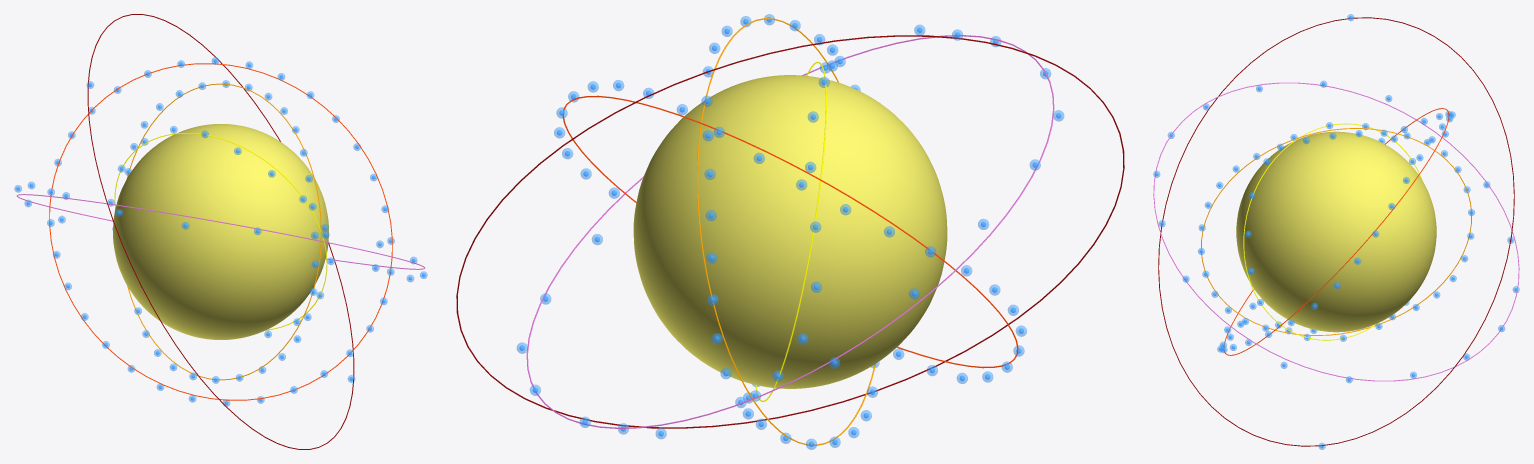
3 renders of one model, left to right at view 1: azimuth 30°, elevation 25°; view 2: azimuth 150°, elevation 25°; view 3: azimuth 270°, elevation 25°, orthographic. The views are drawn at different scales.
Parts seen in each view (by area): view 1: Cn, object 126, object 228, object 61, object 191, object 24; view 2: Cn, object 228, object 191, object 126, object 61, object 24; view 3: Cn, object 228, object 191, object 61, object 126, object 24.
Boxes of the visible parts, x1=… form: Cn: x1=113, y1=124, x2=328, y2=339; object 126: x1=49, y1=63, x2=392, y2=400; object 228: x1=87, y1=14, x2=354, y2=449; object 61: x1=126, y1=83, x2=321, y2=380; object 191: x1=16, y1=194, x2=425, y2=269; object 24: x1=114, y1=133, x2=327, y2=330; Cn: x1=633, y1=75, x2=947, y2=388; object 228: x1=456, y1=35, x2=1124, y2=428; object 191: x1=526, y1=35, x2=1054, y2=428; object 126: x1=562, y1=95, x2=1018, y2=368; object 61: x1=697, y1=18, x2=875, y2=445; object 24: x1=755, y1=61, x2=826, y2=402; Cn: x1=1236, y1=131, x2=1436, y2=332; object 228: x1=1158, y1=17, x2=1514, y2=446; object 191: x1=1153, y1=82, x2=1519, y2=381; object 61: x1=1201, y1=128, x2=1471, y2=335; object 126: x1=1224, y1=108, x2=1449, y2=355; object 24: x1=1243, y1=123, x2=1422, y2=340.
Bounding box in the file's own units: 7.78 × 8.19 × 8.02.
